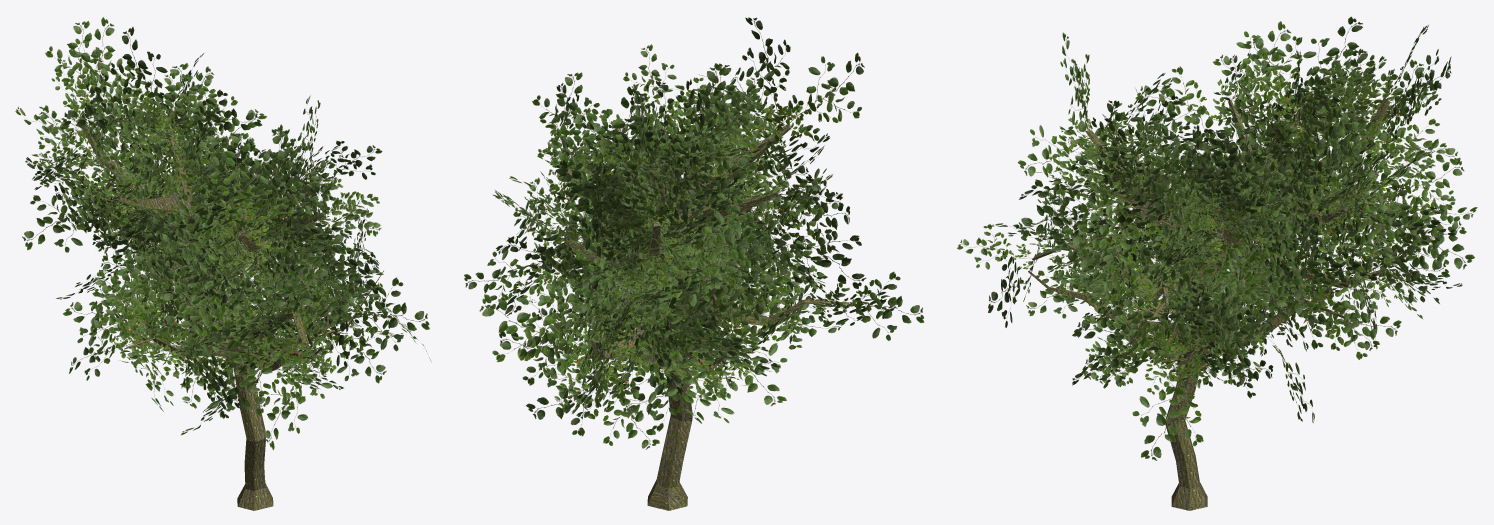
The model's file is tree.glb.
The picture shows the model from 3 angles, left to right: view 1: azimuth 30°, elevation 25°; view 2: azimuth 150°, elevation 25°; view 3: azimuth 270°, elevation 25°; orthographic projection. The views are drawn at different scales.
Parts seen in each view (by area): view 1: Tree Branch.001 (×89), Cube; view 2: Tree Branch.001 (×91), Cube; view 3: Tree Branch.001 (×91), Cube.
Part boxes in pixels (box(x1,y1,x2,y2)): Tree Branch.001 (×89): box(15, 17, 429, 450); Cube: box(78, 117, 383, 510); Tree Branch.001 (×91): box(464, 17, 924, 449); Cube: box(546, 123, 849, 510); Tree Branch.001 (×91): box(957, 16, 1477, 460); Cube: box(1028, 98, 1396, 510).
Bounding box in the file's own units: 25.33 × 28.44 × 29.12.
2 materials, 2 textured.
